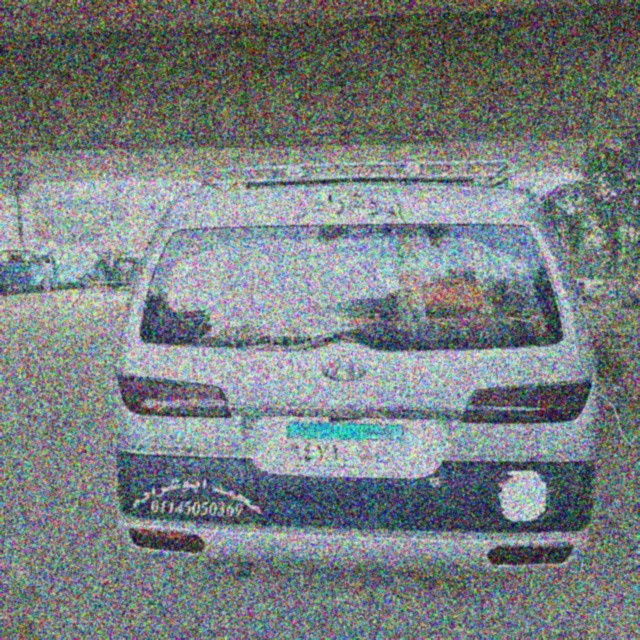License Plate: (285, 421, 408, 471)
